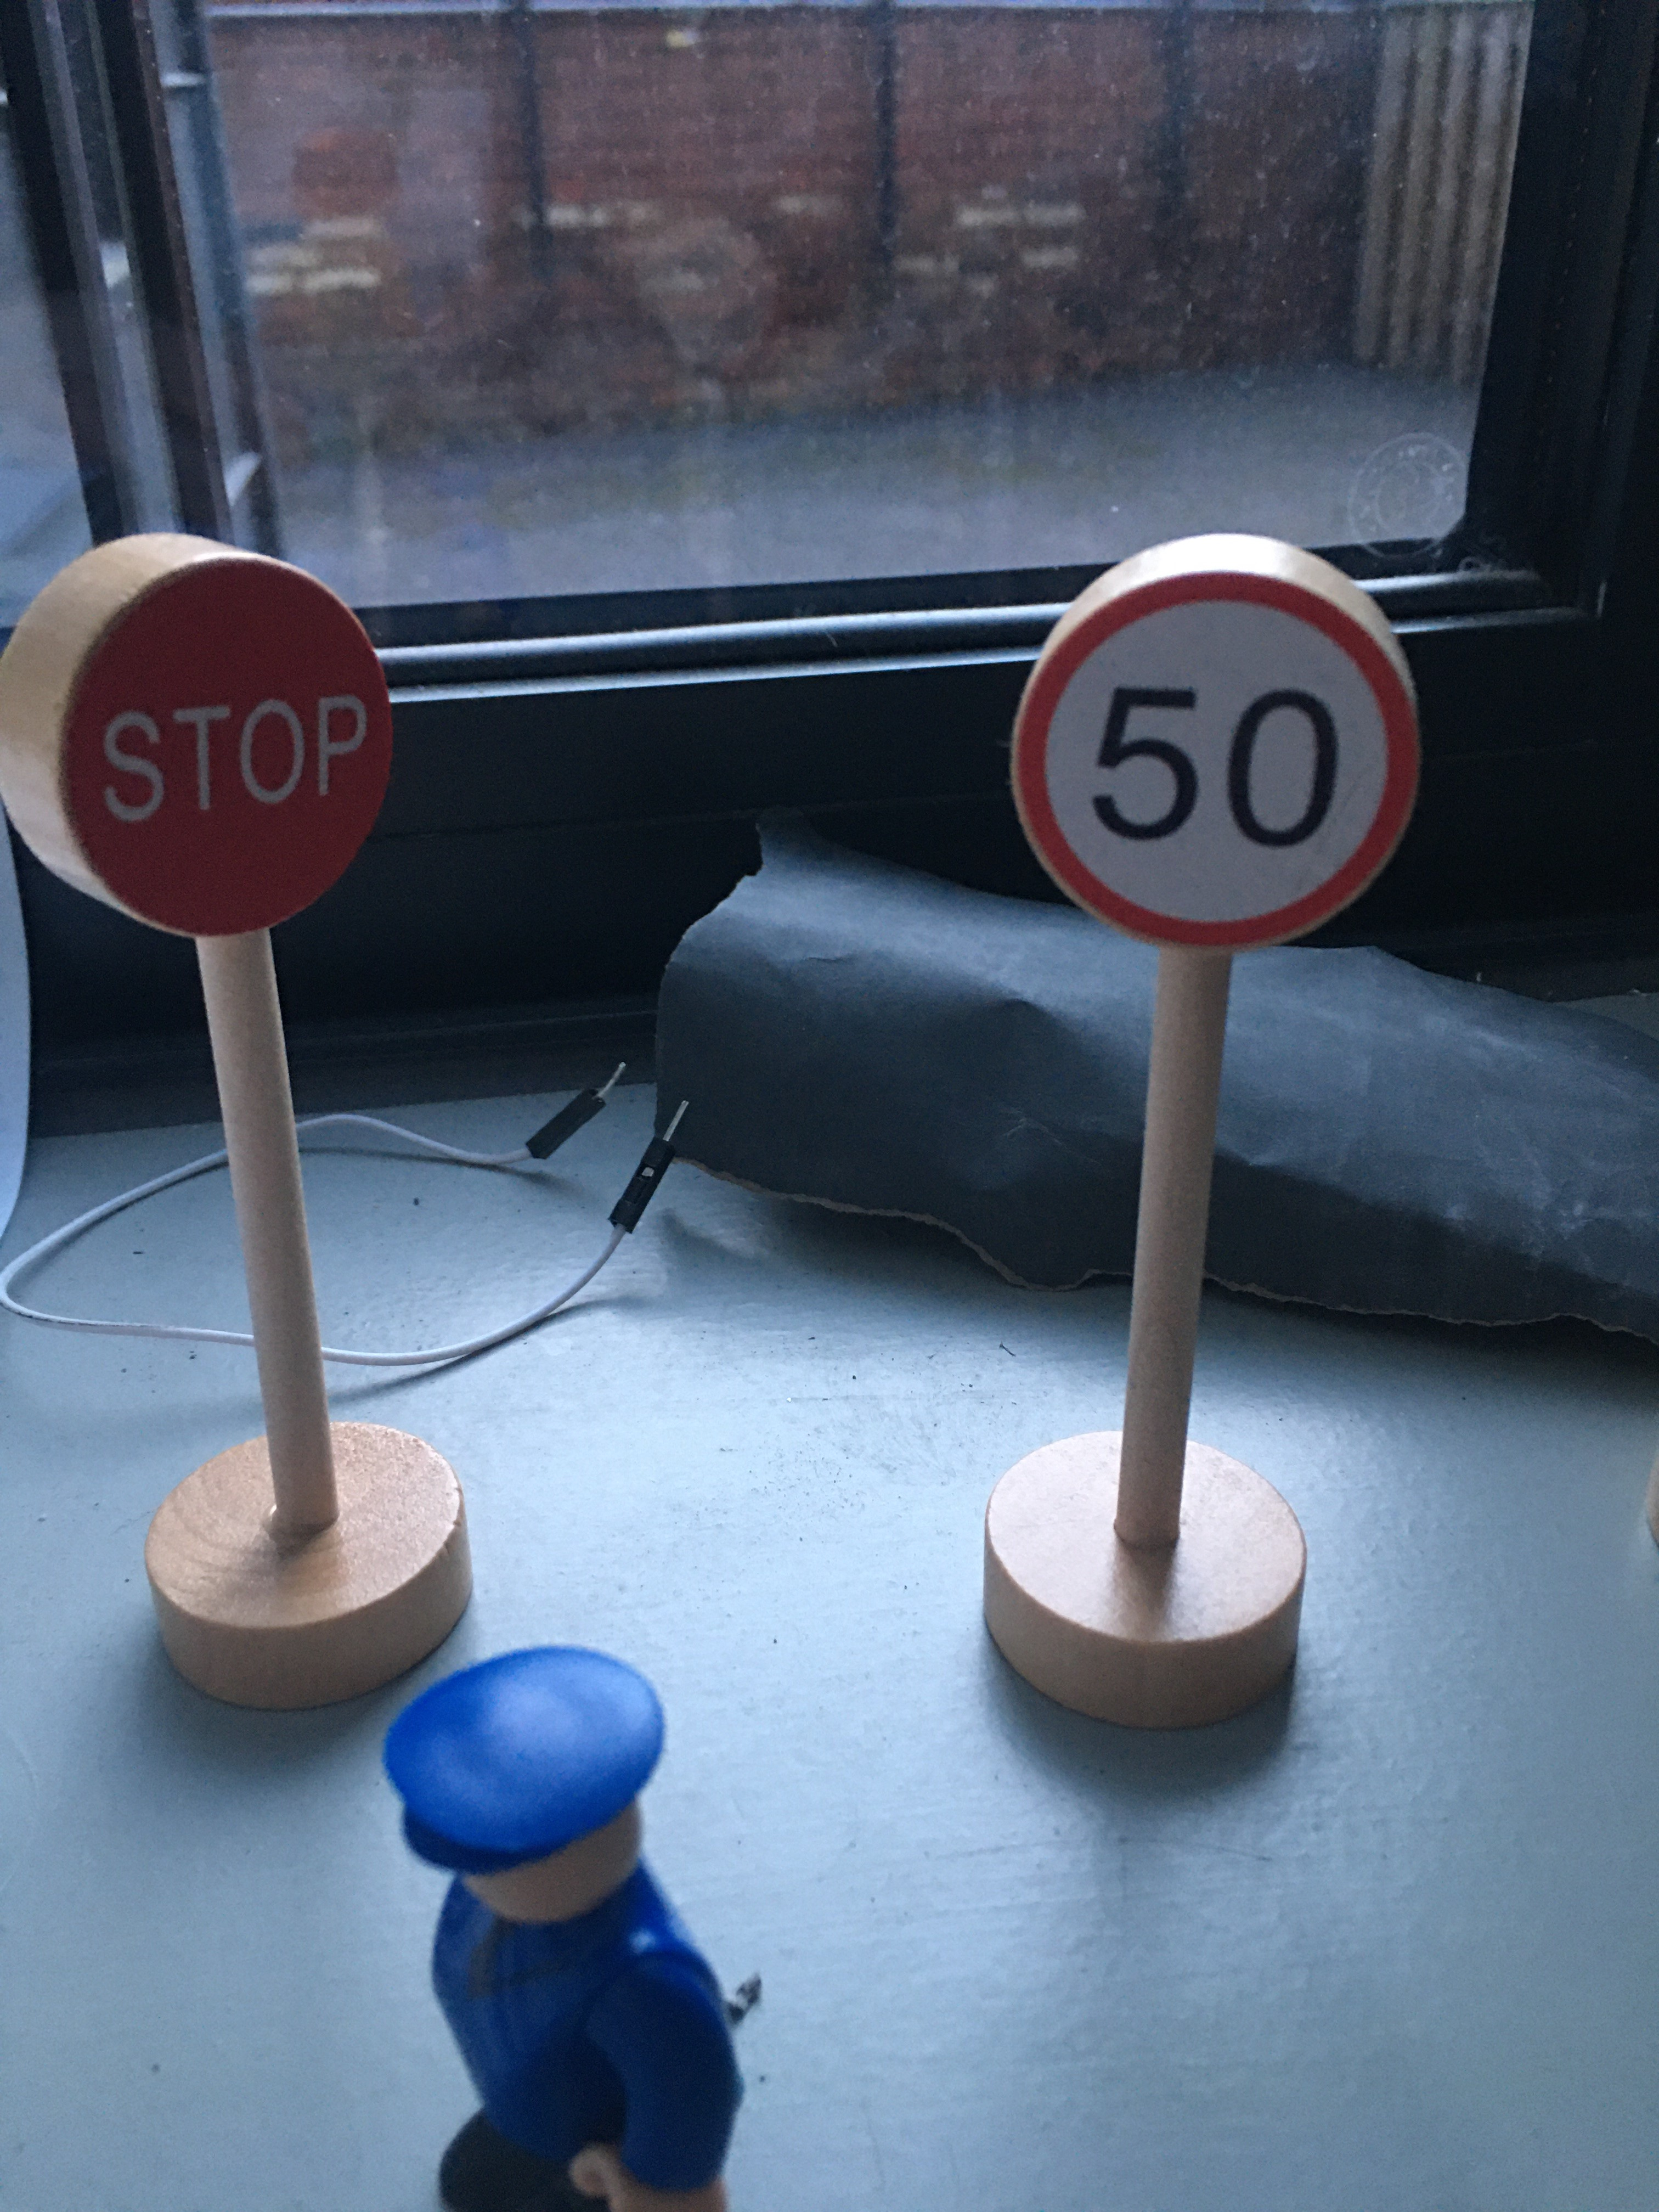Traffic_Sign_50: (1013, 575, 1416, 931)
Traffic_Sign_Stop: (64, 549, 391, 931)
person: (366, 1644, 755, 2212)
